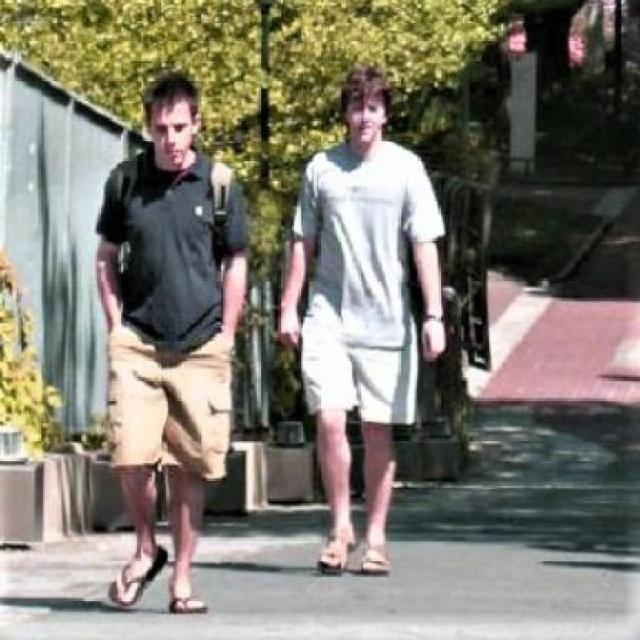obstacle: (281, 61, 445, 578), (101, 71, 253, 617)
